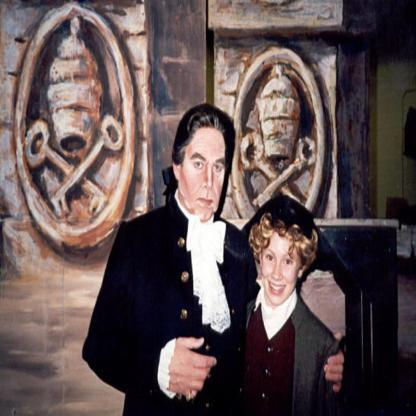face: (182, 129, 225, 218), (263, 231, 301, 306)
